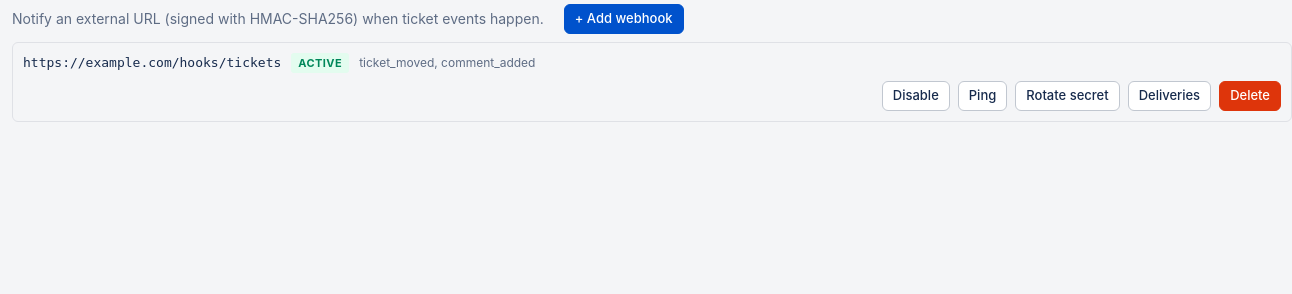
WebhooksManager › shows delivery status/attempts in the deliveries drawer
Expected: the text "https://example.com/hooks/tickets" is shown, [23,53,281,72]
What coordinates should you click on to do the following:
click the button "Deliveries"
I would click on:
 (1169, 96)
Its box is [1128,81,1211,110].
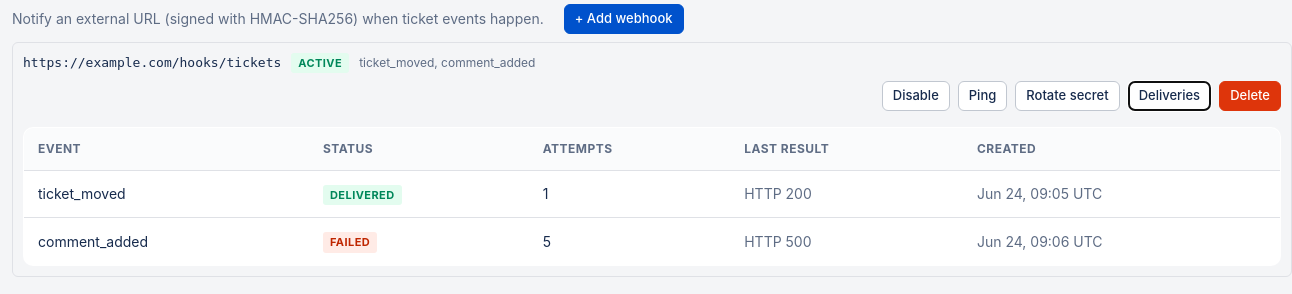
Now the text "delivered" is shown, box [323,184,402,205]
Now the text "failed" is shown, box [323,232,377,252]
Now the text "HTTP 500" is shown, box [730,218,963,265]
